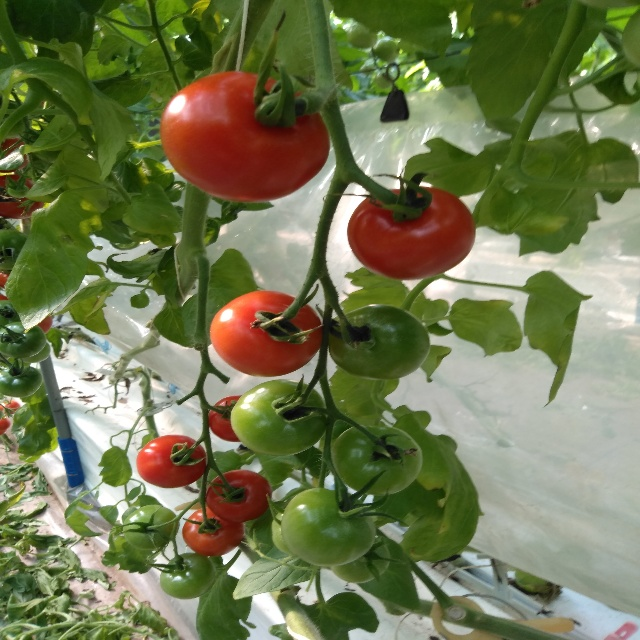l_fully_ripened: (159, 71, 330, 202), (347, 187, 476, 281), (210, 290, 322, 377), (136, 434, 207, 489), (206, 469, 273, 523), (182, 506, 244, 557), (0, 175, 45, 219), (208, 394, 242, 443), (0, 137, 31, 173)
l_green: (329, 304, 431, 380), (230, 379, 329, 457), (280, 488, 376, 566), (331, 424, 424, 496), (328, 536, 390, 583), (159, 552, 216, 600), (123, 505, 180, 550), (0, 321, 47, 358), (0, 366, 43, 397), (272, 505, 296, 556), (0, 228, 28, 270), (18, 342, 51, 363)
